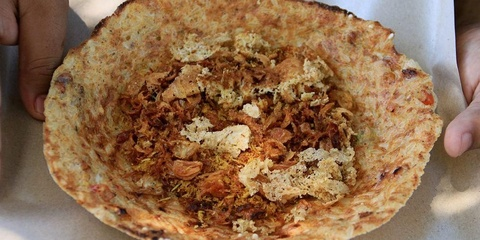kerak_telor: (42, 1, 443, 240)
